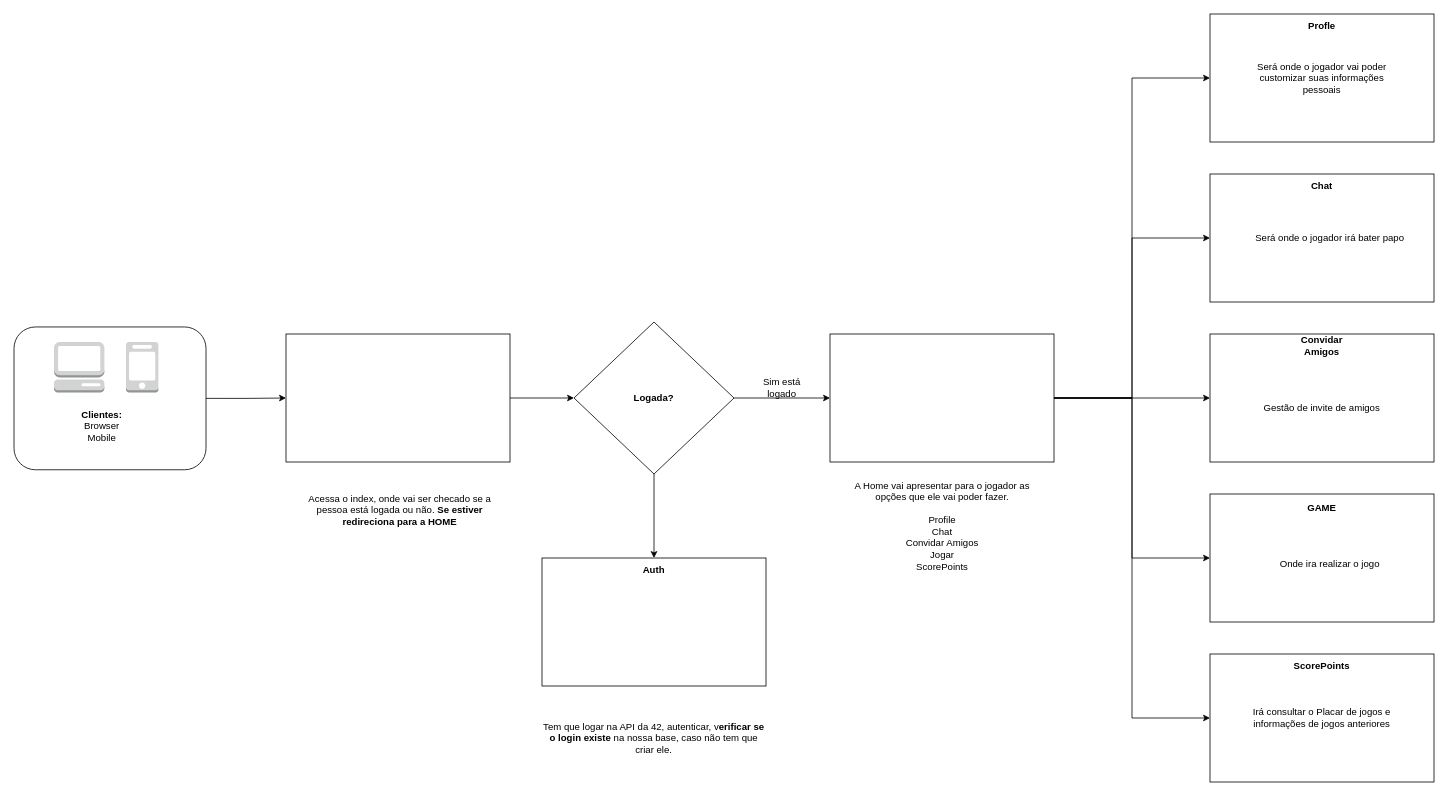
Some shapes in this 1448 by 804 pixel diagram are drawn without their labels. Here are the shapes that lost their labels. From the top down, the box of each, then its label:
(285, 333, 510, 462): Index
(829, 333, 1054, 462): Home
